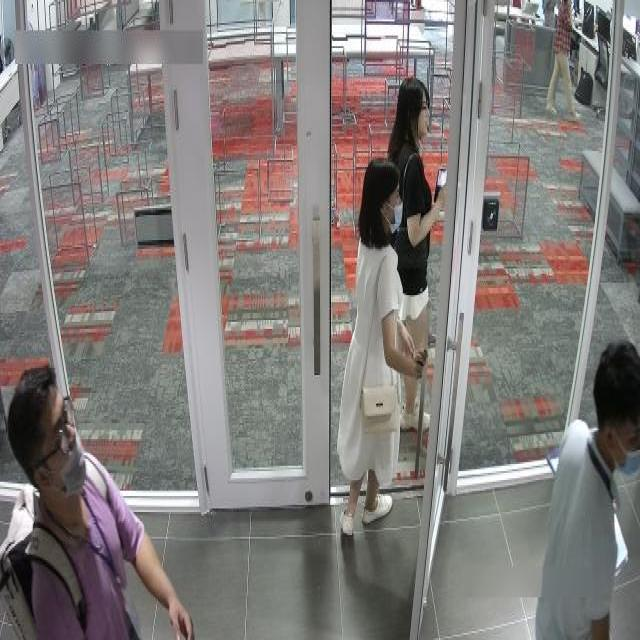bare_hand: (158, 564, 200, 640), (401, 343, 433, 388)
